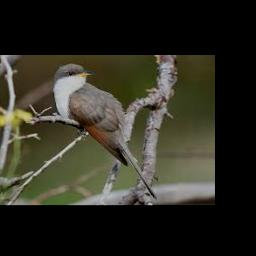Cuckoo: (52, 64, 157, 200)
